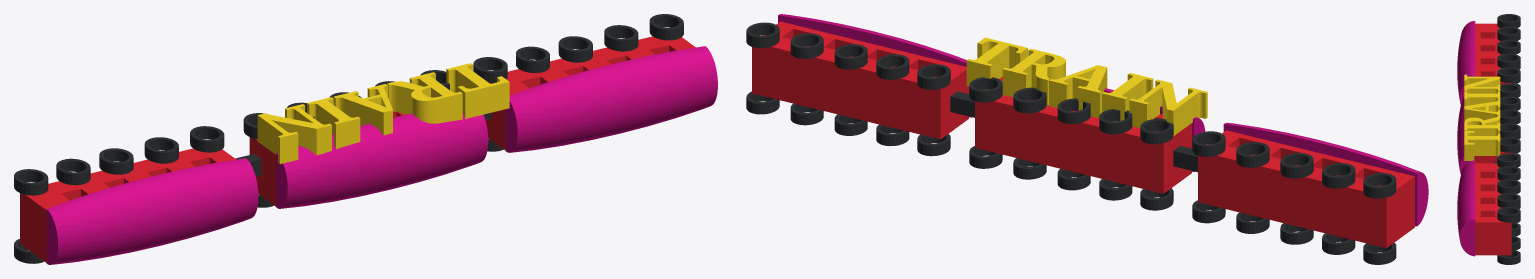
File: tinker.obj
3 views of the same model, side by side, from view 1: azimuth 30°, elevation 25°; view 2: azimuth 150°, elevation 25°; view 3: azimuth 270°, elevation 25° (orthographic). The views are drawn at different scales.
Visible parts, largest first — view 1: group_0_14093196, group_0_16768282, group_0_2829873, group_0_15277357; view 2: group_0_15277357, group_0_2829873, group_0_16768282, group_0_14093196; view 3: group_0_2829873, group_0_15277357, group_0_14093196, group_0_16768282.
Boxes of the visible parts, box(x1,y1,x2,y2) form: group_0_14093196: box(46, 46, 717, 264); group_0_16768282: box(257, 63, 509, 163); group_0_2829873: box(14, 14, 683, 263); group_0_15277357: box(20, 36, 695, 262); group_0_15277357: box(752, 21, 1414, 248); group_0_2829873: box(746, 22, 1396, 264); group_0_16768282: box(966, 37, 1207, 136); group_0_14093196: box(778, 14, 1428, 226); group_0_2829873: box(1493, 14, 1520, 264); group_0_15277357: box(1475, 23, 1511, 255); group_0_14093196: box(1457, 21, 1475, 256); group_0_16768282: box(1464, 74, 1500, 160).
Size of the model in its own units: 263 by 35 by 35.
